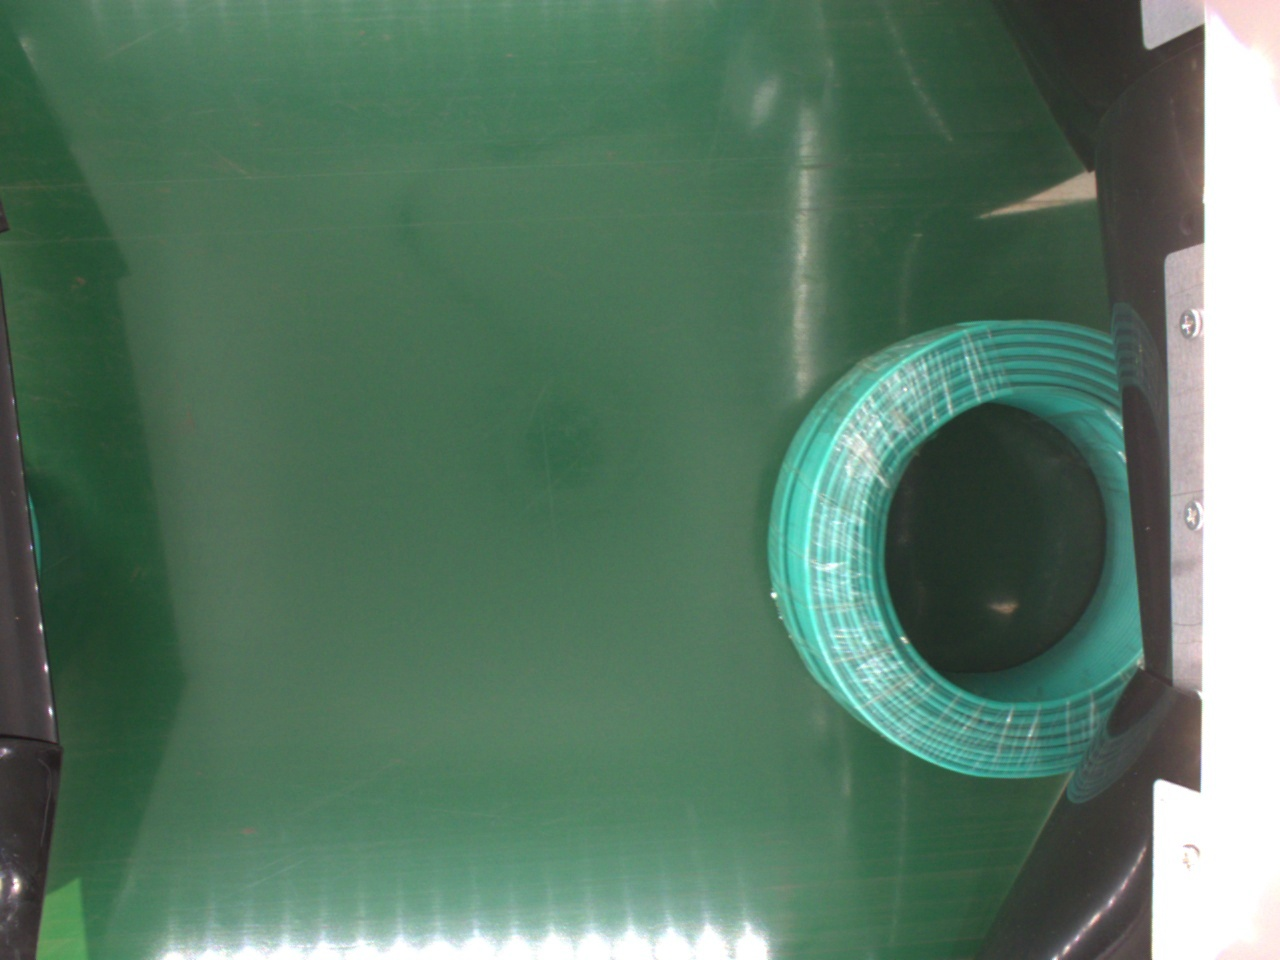green: (761, 315, 1133, 779)
